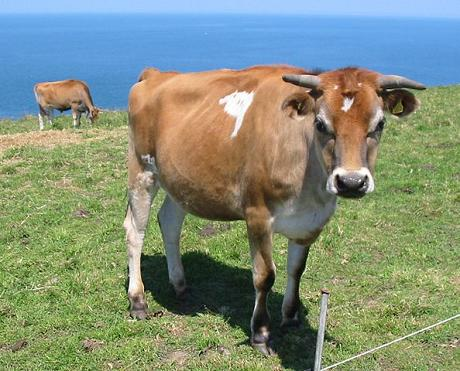muzzles: (325, 167, 376, 202)
